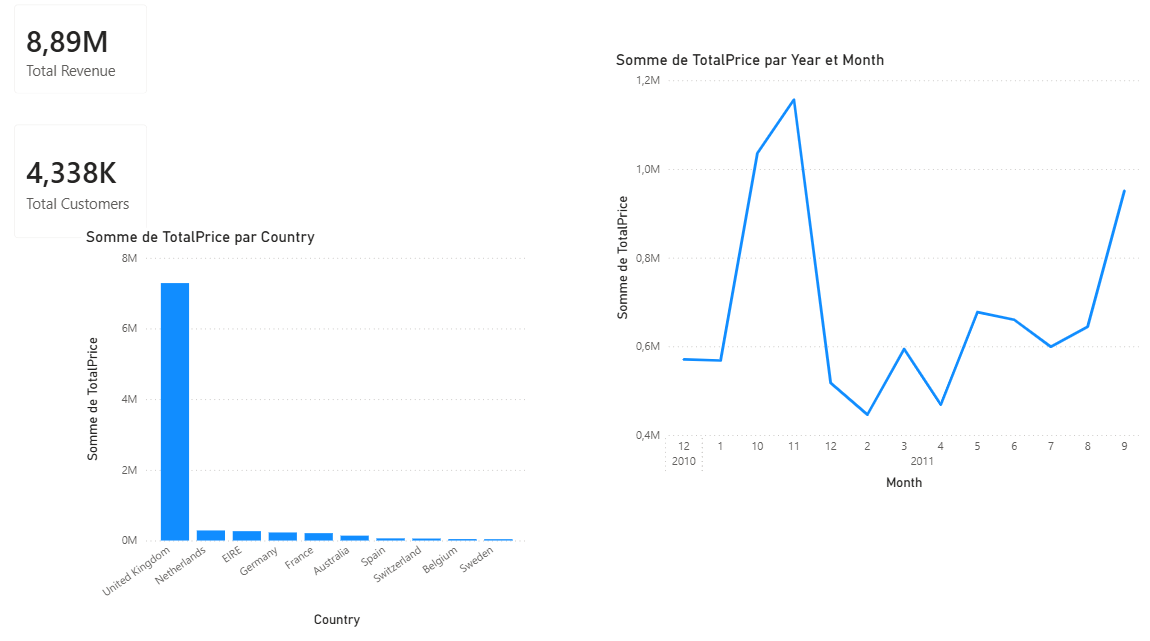

This screenshot's page, from the dashboard's own definition file:
{"tool":"powerbi","page":{"name":"Sales_Overview","canvas":[1280,720],"ordinal":0},"visuals":[{"type":"cardVisual","fields":{"Data":["Sum(fact_sales.TotalPrice)"]},"box":[9.1,0,180.7,132.1],"z":0},{"type":"cardVisual","fields":{"Data":["Count(dim_customer.CustomerID)"]},"box":[9.1,132.1,180.7,159.4],"z":1000},{"type":"clusteredColumnChart","fields":{"Category":["fact_sales.Country"],"Y":["Sum(fact_sales.TotalPrice)"]},"box":[100.2,262.7,495,443.4],"z":2000},{"type":"lineChart","fields":{"Y":["Sum(fact_sales.TotalPrice)"],"Category":["fact_sales.Year","fact_sales.Month"]},"box":[681.8,66.8,584.6,487.4],"z":3000}]}

Visuals, with their boxes in screenshot pixels (x1, y1, x2, y2), scaled from the page's 1280x720 canvas onto the 1150x641 screenshot:
cardVisual - Sum(fact_sales.TotalPrice): [left=8, top=0, right=171, bottom=118]
cardVisual - Count(dim_customer.CustomerID): [left=8, top=118, right=171, bottom=260]
clusteredColumnChart - fact_sales.Country x Sum(fact_sales.TotalPrice): [left=90, top=234, right=535, bottom=629]
lineChart - Sum(fact_sales.TotalPrice) x fact_sales.Year: [left=613, top=59, right=1138, bottom=493]
